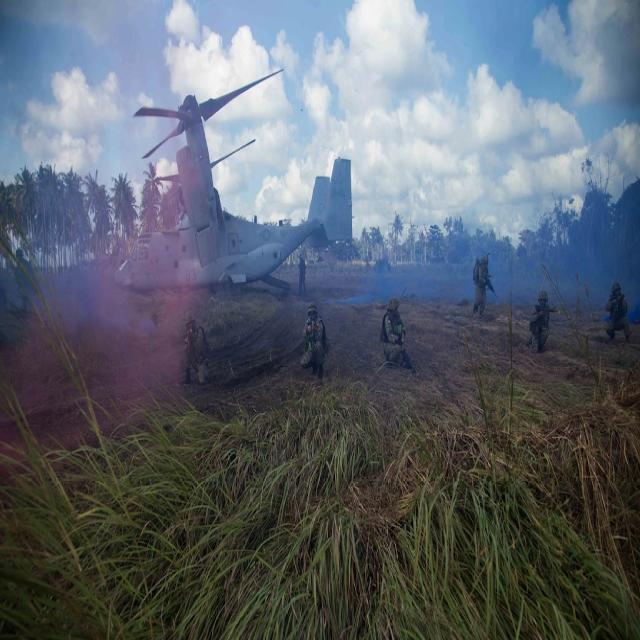MIL_Plane: (113, 68, 355, 291)
